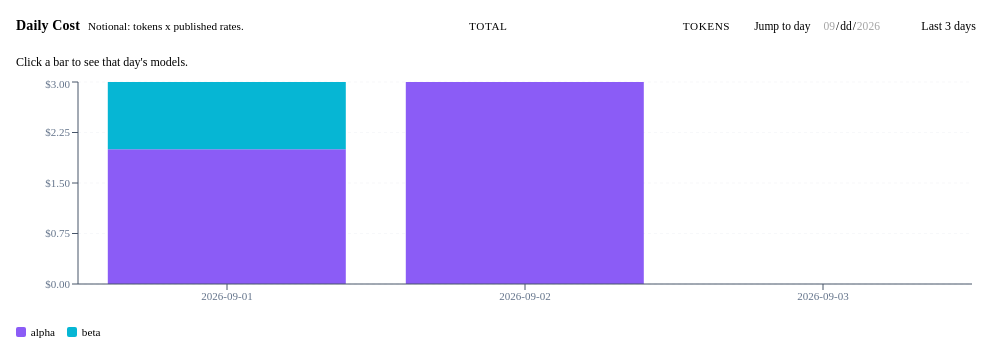
DailyCostSection › Total draws one rounded bar per day with usage, and drops the legend
Step 1. Click the button "Total" → click(488, 26), box [460,16,517,36]
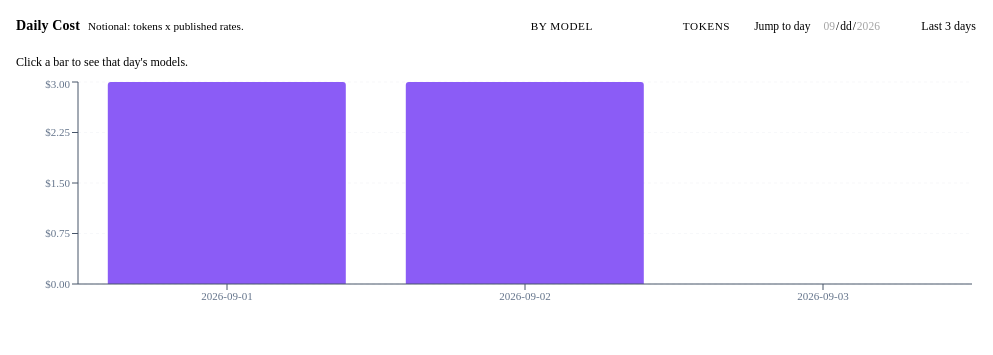
expect the list "Legend" is gone: met
